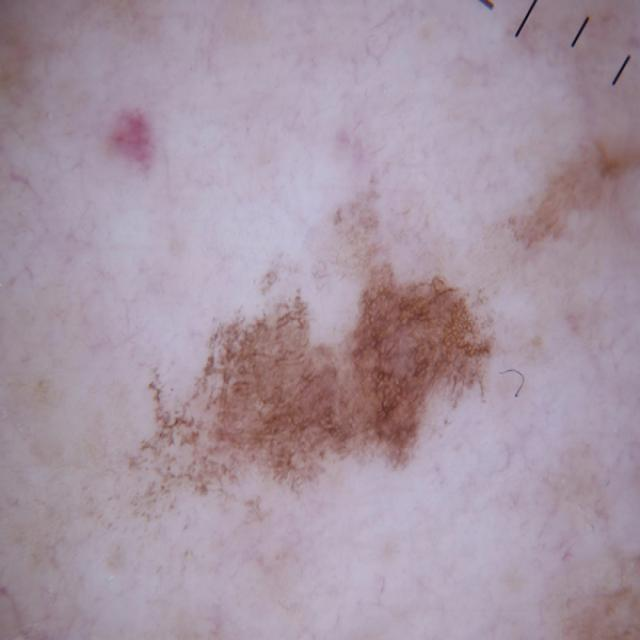Skin-Cancer Pigmented benign keratosis: (54, 58, 640, 588)
